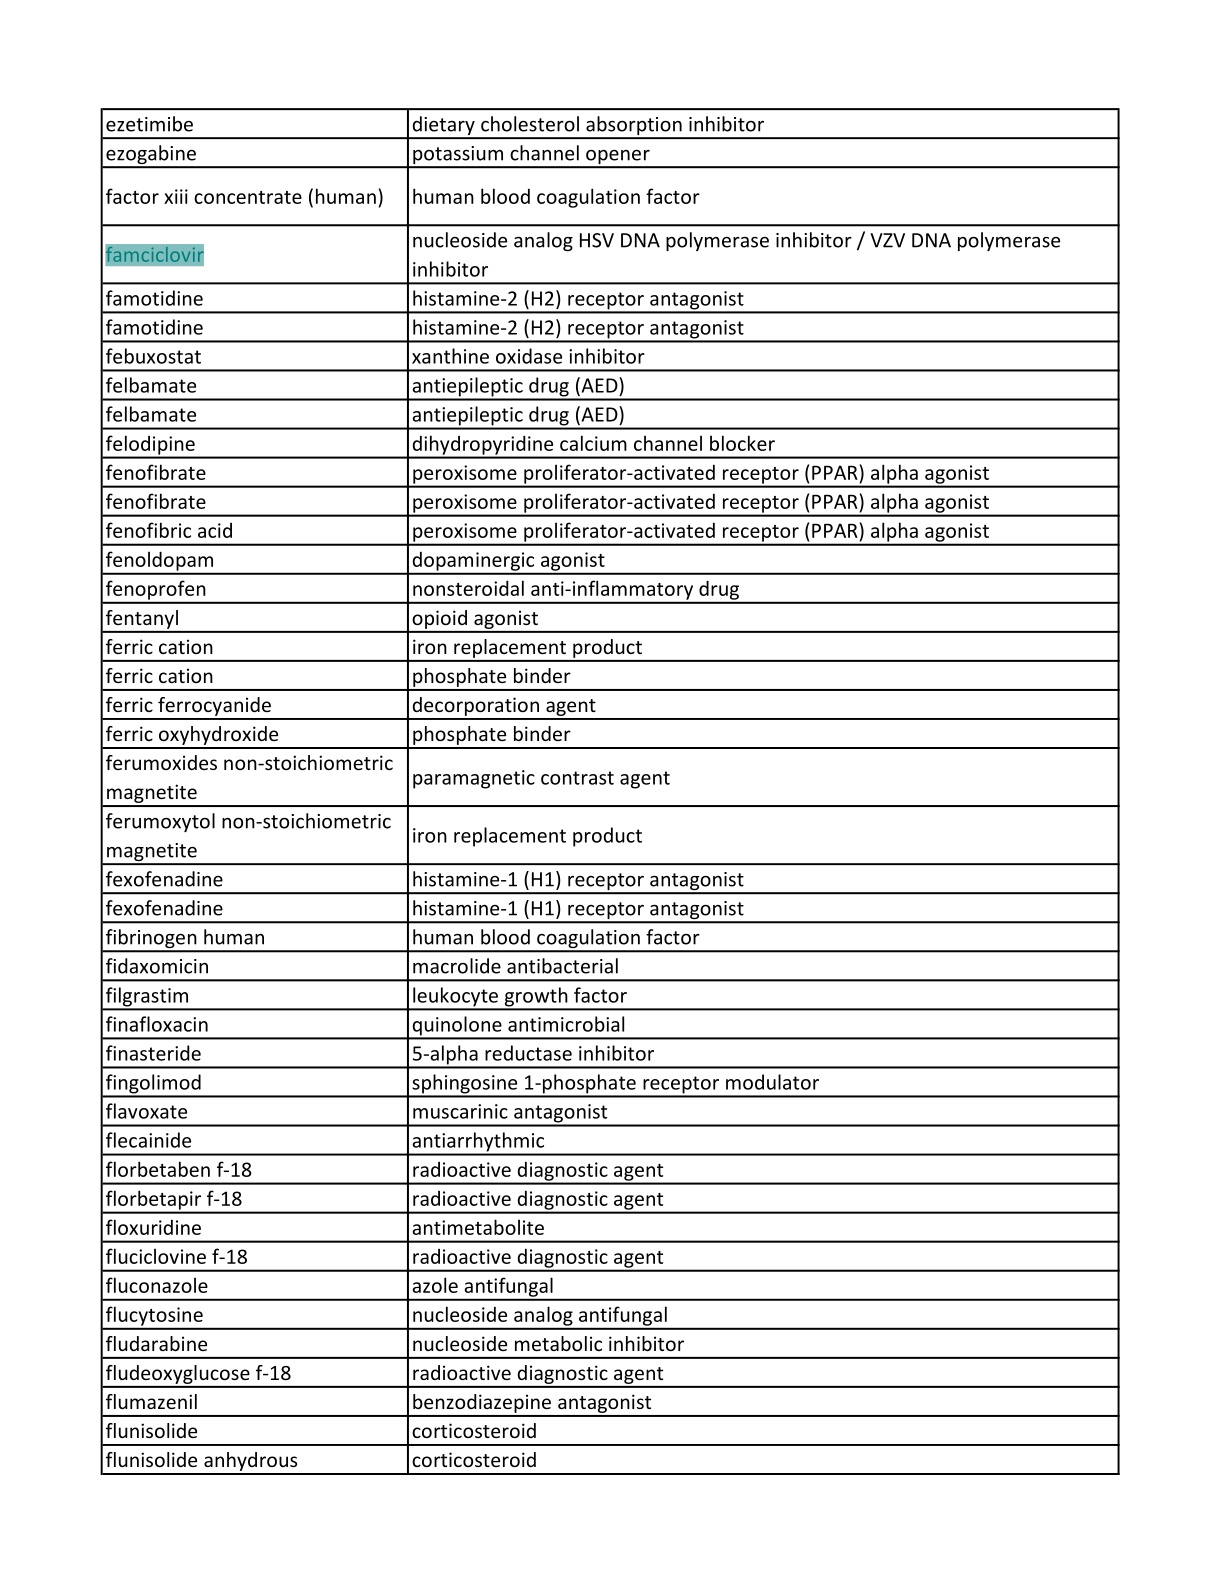full_lined: (99, 107, 1120, 1476)
